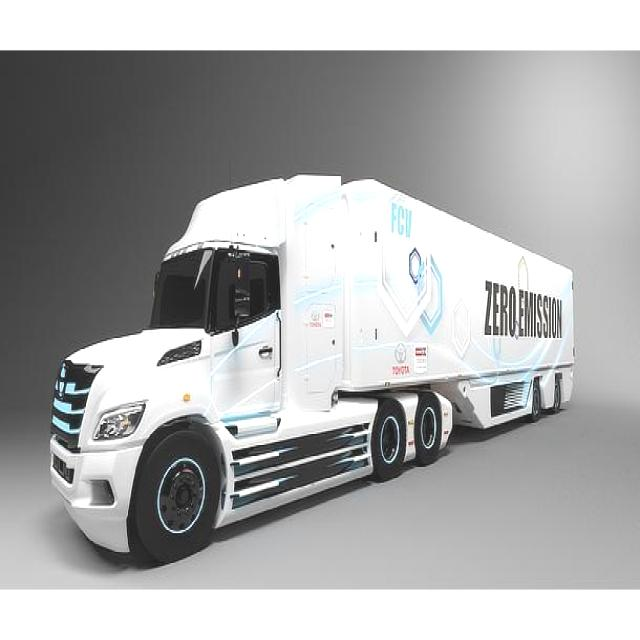Truck: (46, 171, 578, 565)
